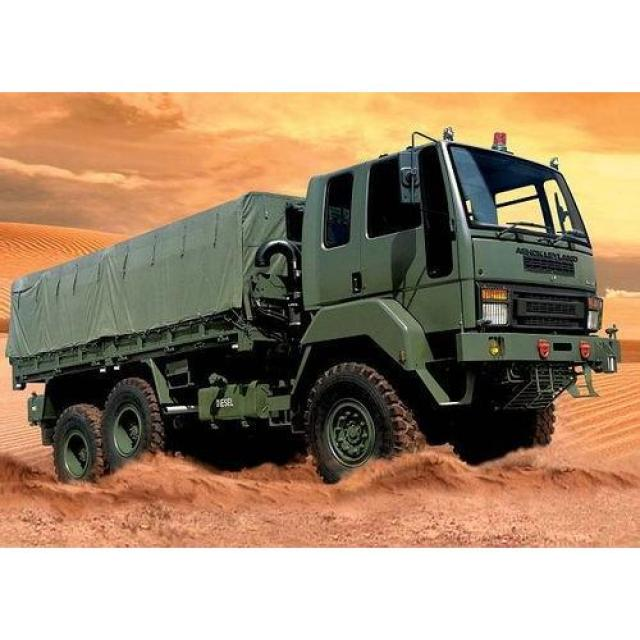truck: (6, 129, 618, 482)
